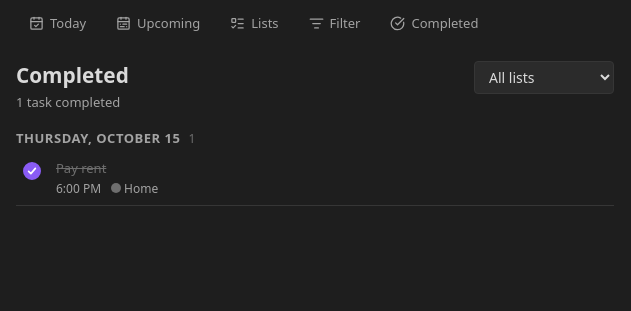
Test: Completed page (ROADMAP item 4) › reopens a task, which leaves the log
Step 1. Click the checkbox named "Reopen “Pay rent”" → (32, 171), box [23,162,41,180]
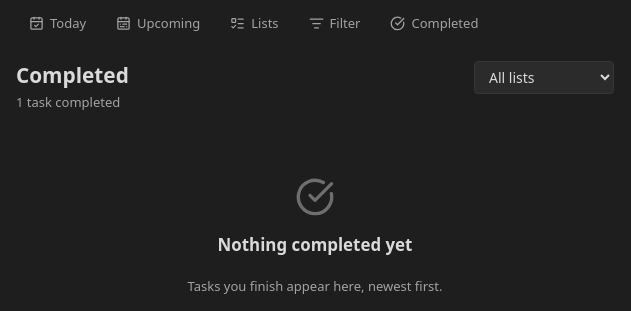
Check: the text "Pay rent" is gone
